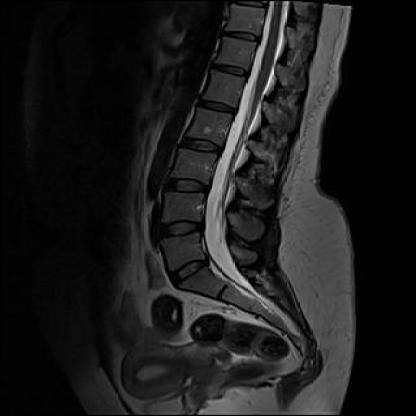Degenerative Disc Diseaserotation: (153, 215, 210, 243)
